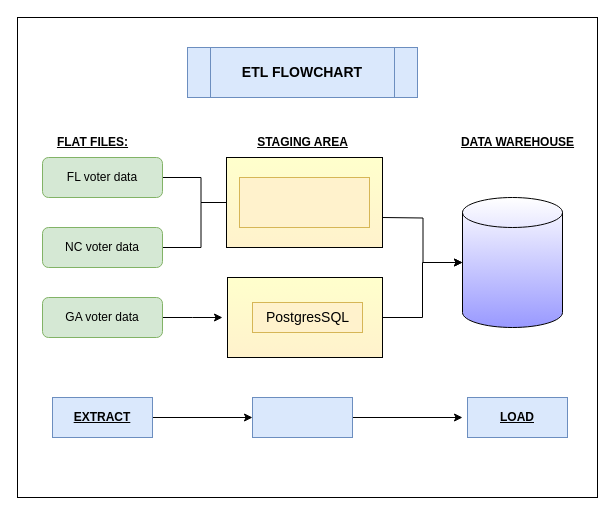
The diagram is 615 pixels wide and 515 high, and some of its shapes have lost their labels. The shapes that lost their labels are listed below. From the top down, each one's centre as x and y in pixels, then its label:
At (x=304, y=202): "Pandas/ Jupyter Notebook".
At (x=512, y=262): "PostgreSQL".
At (x=302, y=417): "TRANSFORM".
